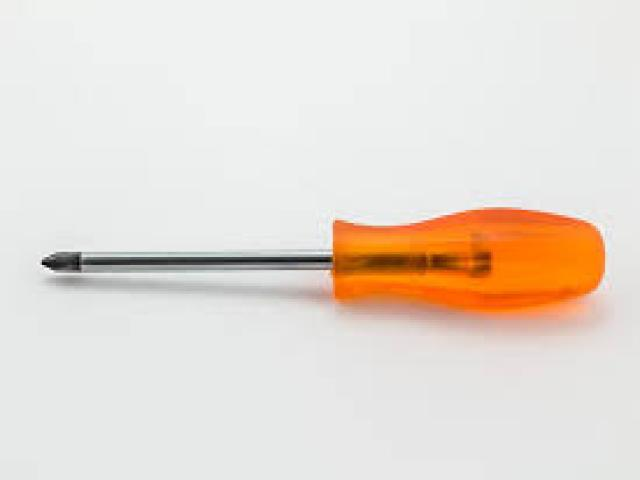Screwdriver: (41, 207, 605, 309)
